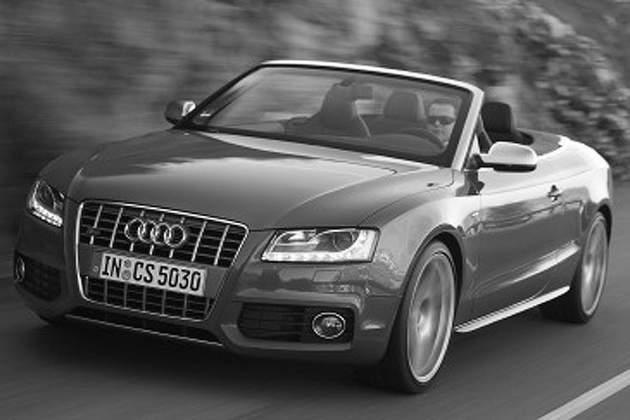car: (17, 61, 615, 394)
